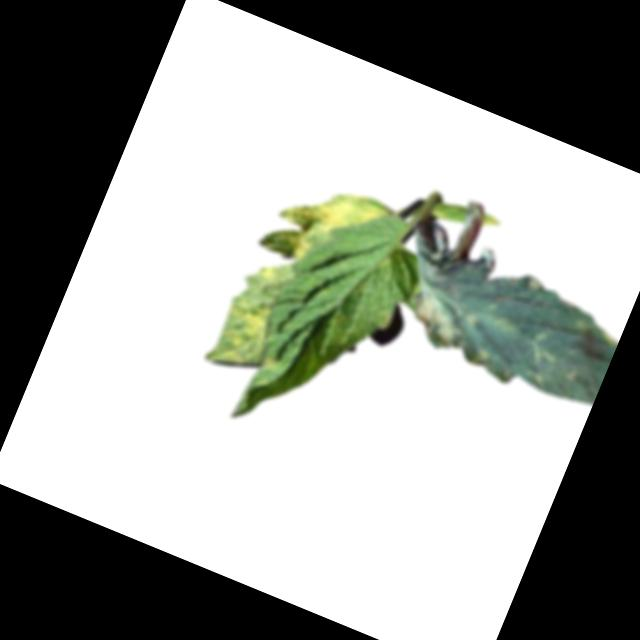Leaf_Mold: (257, 166, 391, 289), (205, 245, 299, 379), (397, 282, 477, 358), (467, 343, 497, 374)
